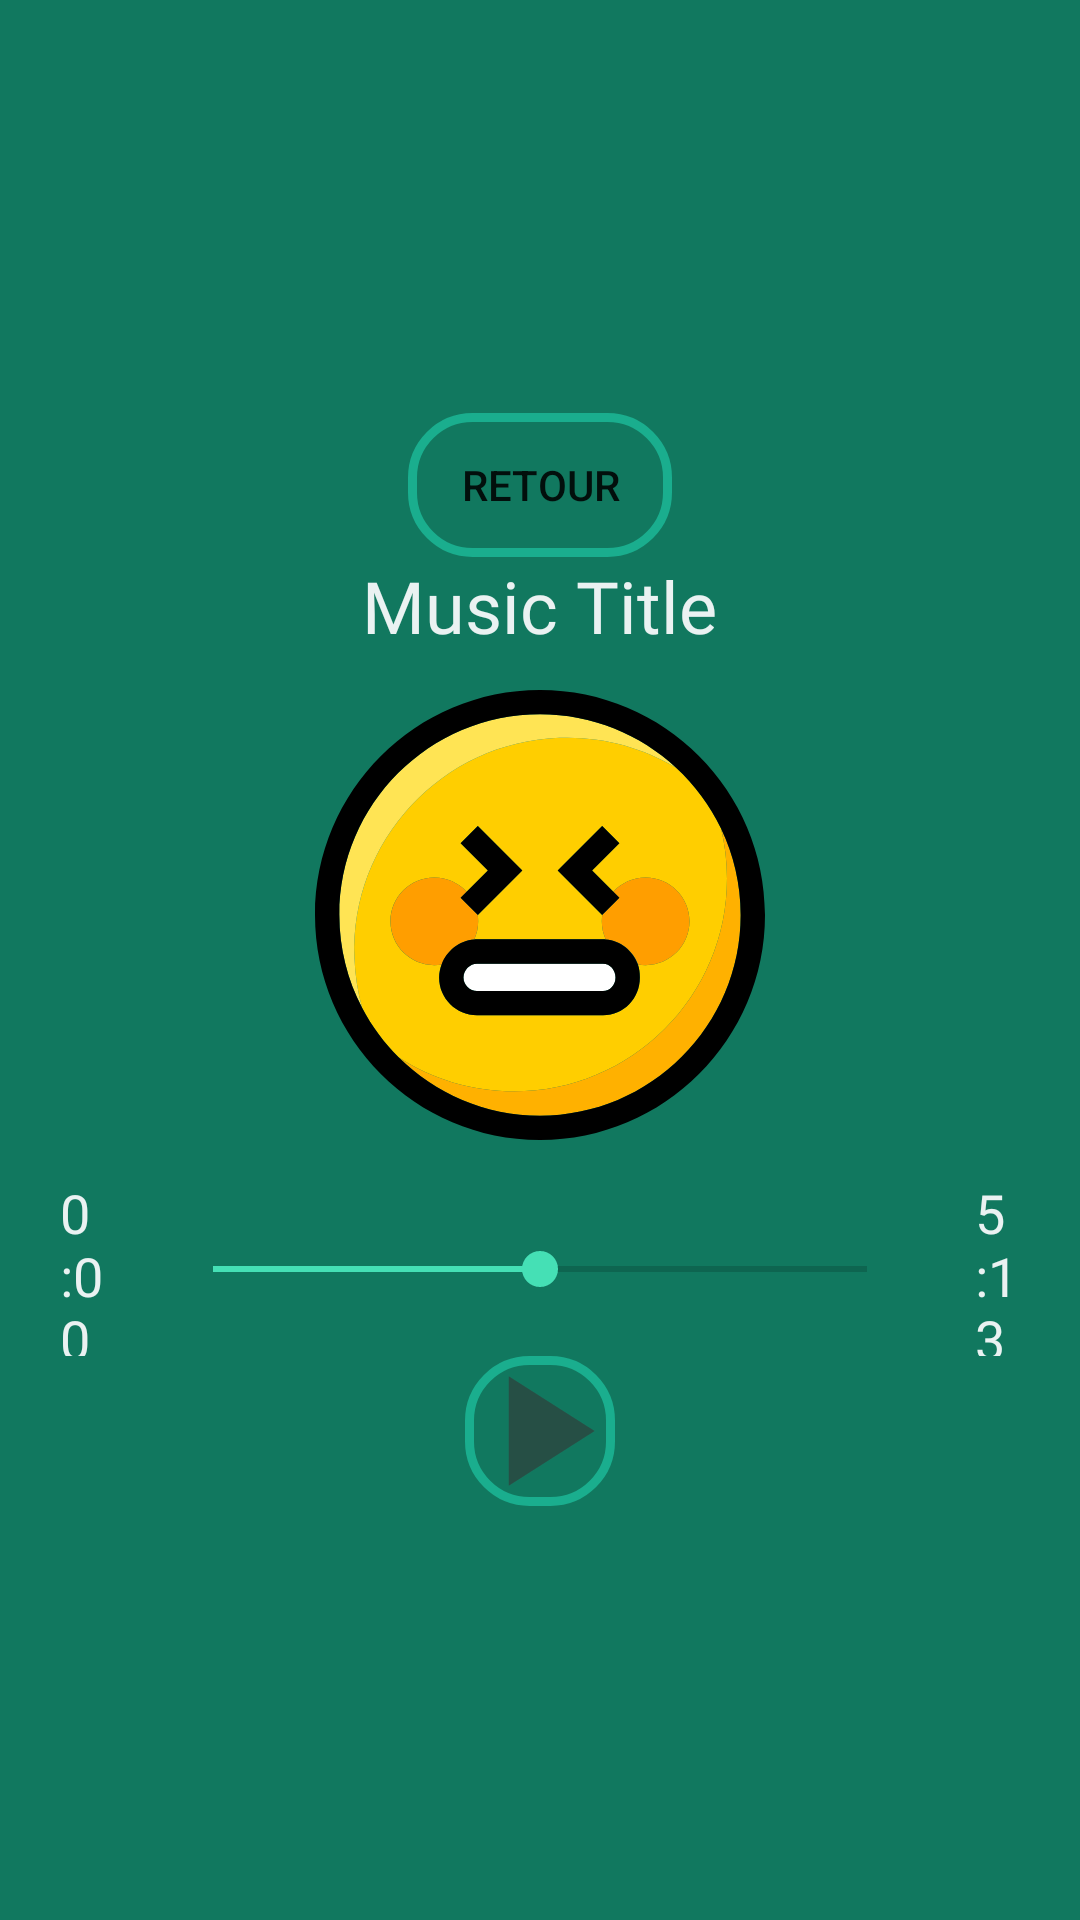

Icons on this 1080px x 1920px Android screen, each with the point to tap as (x=x, y=y):
play: (x=540, y=1431)
